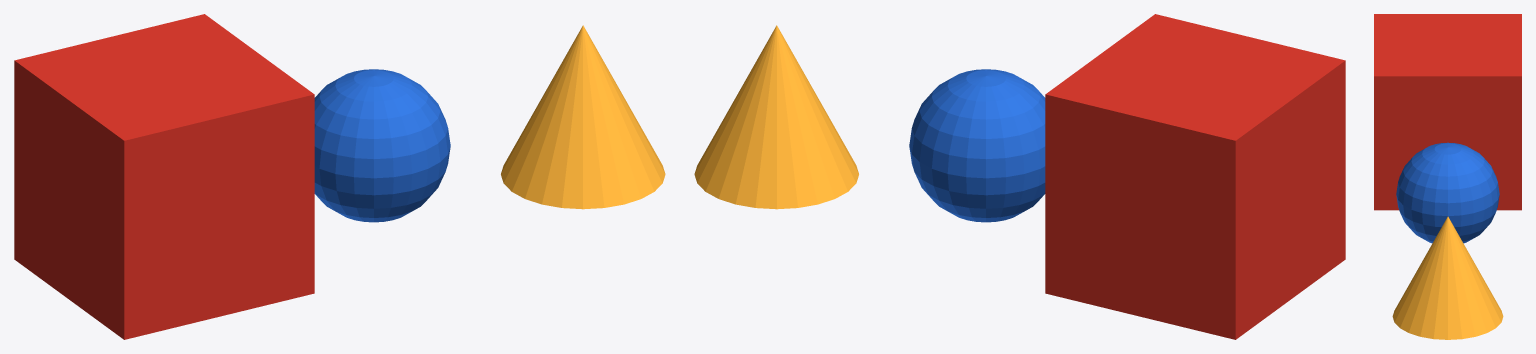
Rendered from bridge.glb.
The picture shows the model from 3 angles, left to right: view 1: azimuth 30°, elevation 25°; view 2: azimuth 150°, elevation 25°; view 3: azimuth 270°, elevation 25°; orthographic projection. The views are drawn at different scales.
Visible parts, largest first — view 1: BridgeCube, BridgeSphere, BridgeCone; view 2: BridgeCube, BridgeSphere, BridgeCone; view 3: BridgeCube, BridgeSphere, BridgeCone.
Part boxes in pixels (x1=…): BridgeCube: x1=14, y1=14, x2=314, y2=339; BridgeSphere: x1=314, y1=69, x2=450, y2=222; BridgeCone: x1=501, y1=25, x2=665, y2=209; BridgeCube: x1=1045, y1=14, x2=1345, y2=339; BridgeSphere: x1=909, y1=69, x2=1045, y2=222; BridgeCone: x1=694, y1=25, x2=858, y2=209; BridgeCube: x1=1374, y1=14, x2=1521, y2=210; BridgeSphere: x1=1396, y1=142, x2=1499, y2=243; BridgeCone: x1=1392, y1=216, x2=1503, y2=339.
Bounding box in the file's own units: 6.15 × 2 × 2.
